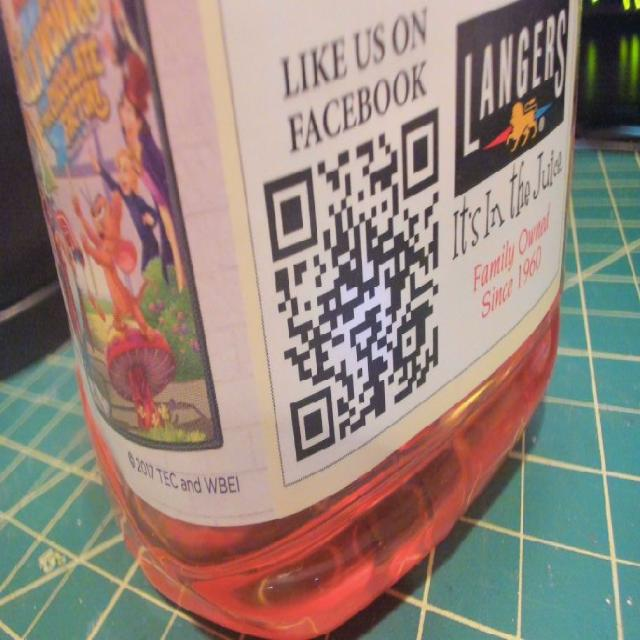QRCode: (251, 97, 456, 478)
